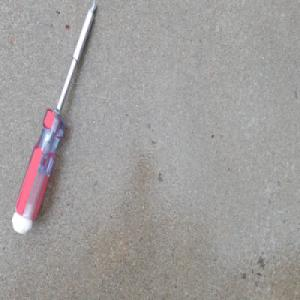Screwdriver: (10, 0, 98, 234)
